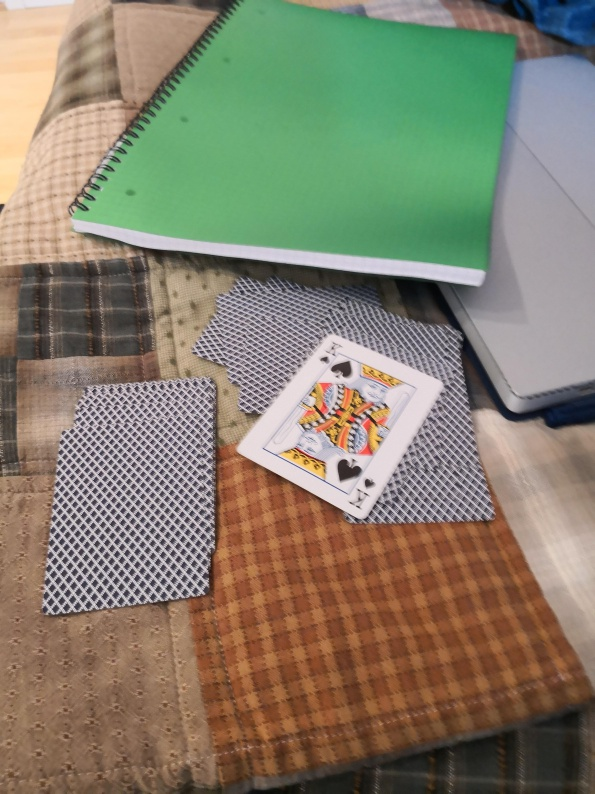king: (234, 332, 446, 522)
